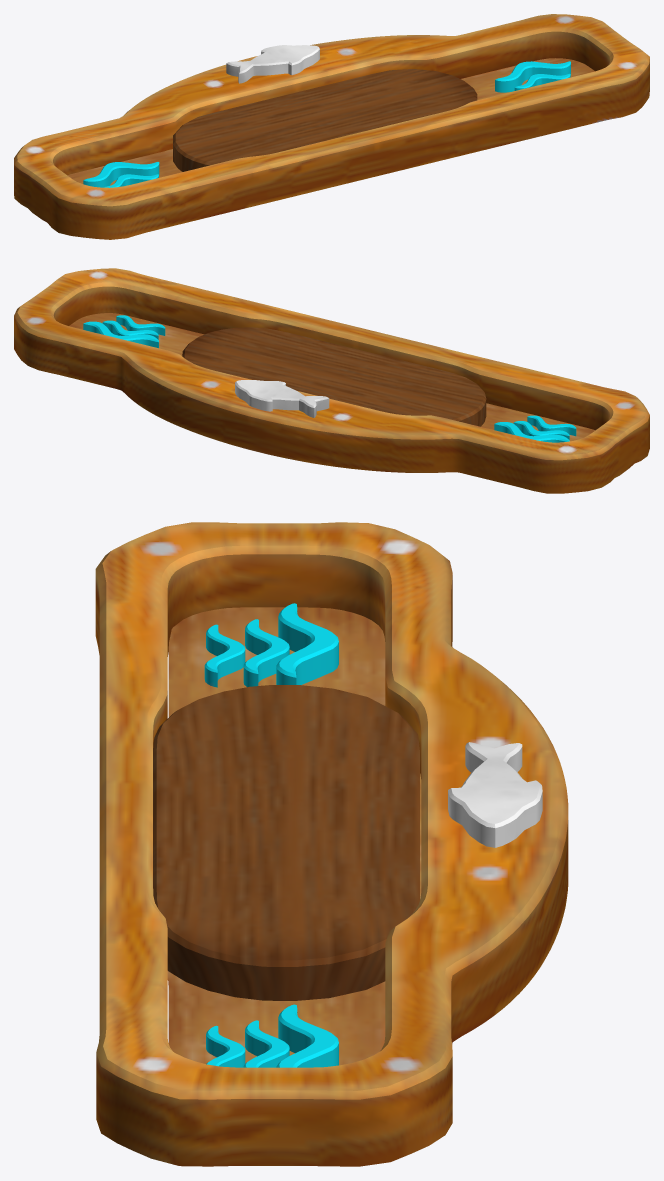
Rendered from timer_board.glb.
The picture shows the model from 3 angles, top to bottom: view 1: azimuth 30°, elevation 25°; view 2: azimuth 150°, elevation 25°; view 3: azimuth 270°, elevation 25°; orthographic projection. The views are drawn at different scales.
Visible parts, largest first — view 1: pasted__Curve.010; view 2: pasted__Curve.010; view 3: pasted__Curve.010.
Boxes of the visible parts, <box> form: pasted__Curve.010: <box>14,14,649,239</box>; pasted__Curve.010: <box>14,268,649,493</box>; pasted__Curve.010: <box>95,522,568,1166</box>.
Bounding box in the file's own units: 10.84 × 0.8608 × 3.77.
Materials: 1 (1 with a texture image).
